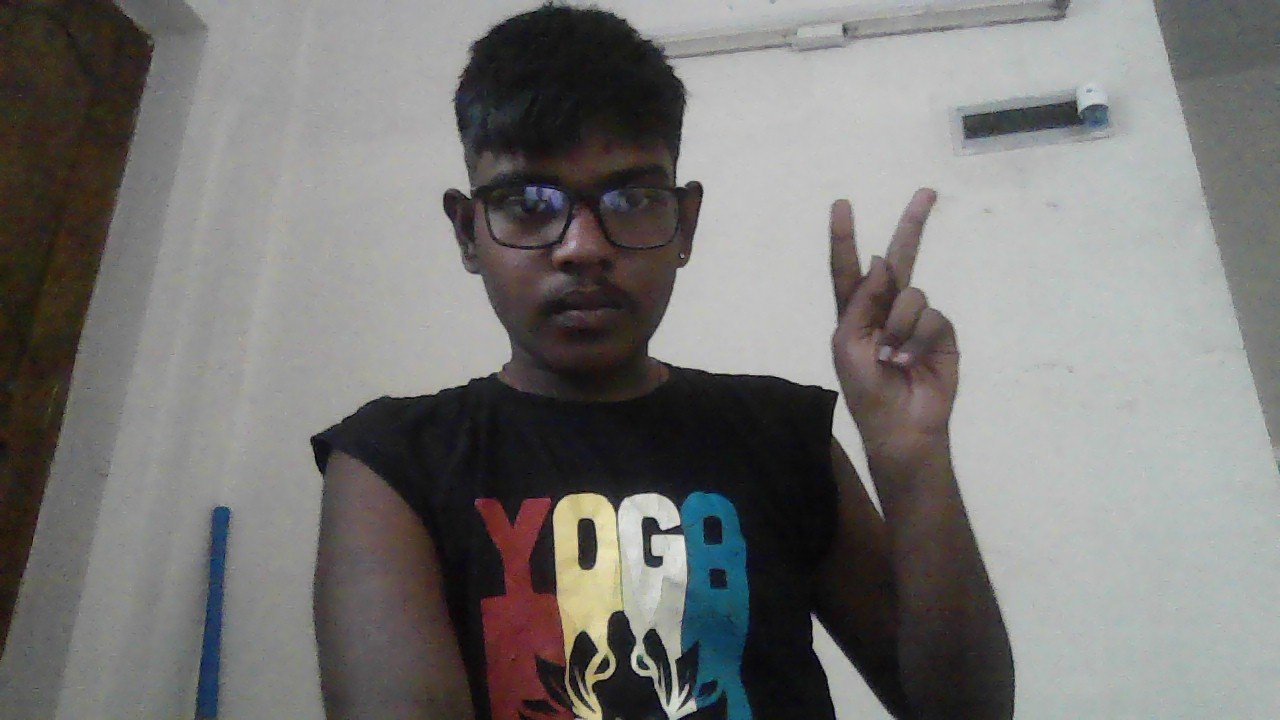K: (830, 188, 960, 457)
